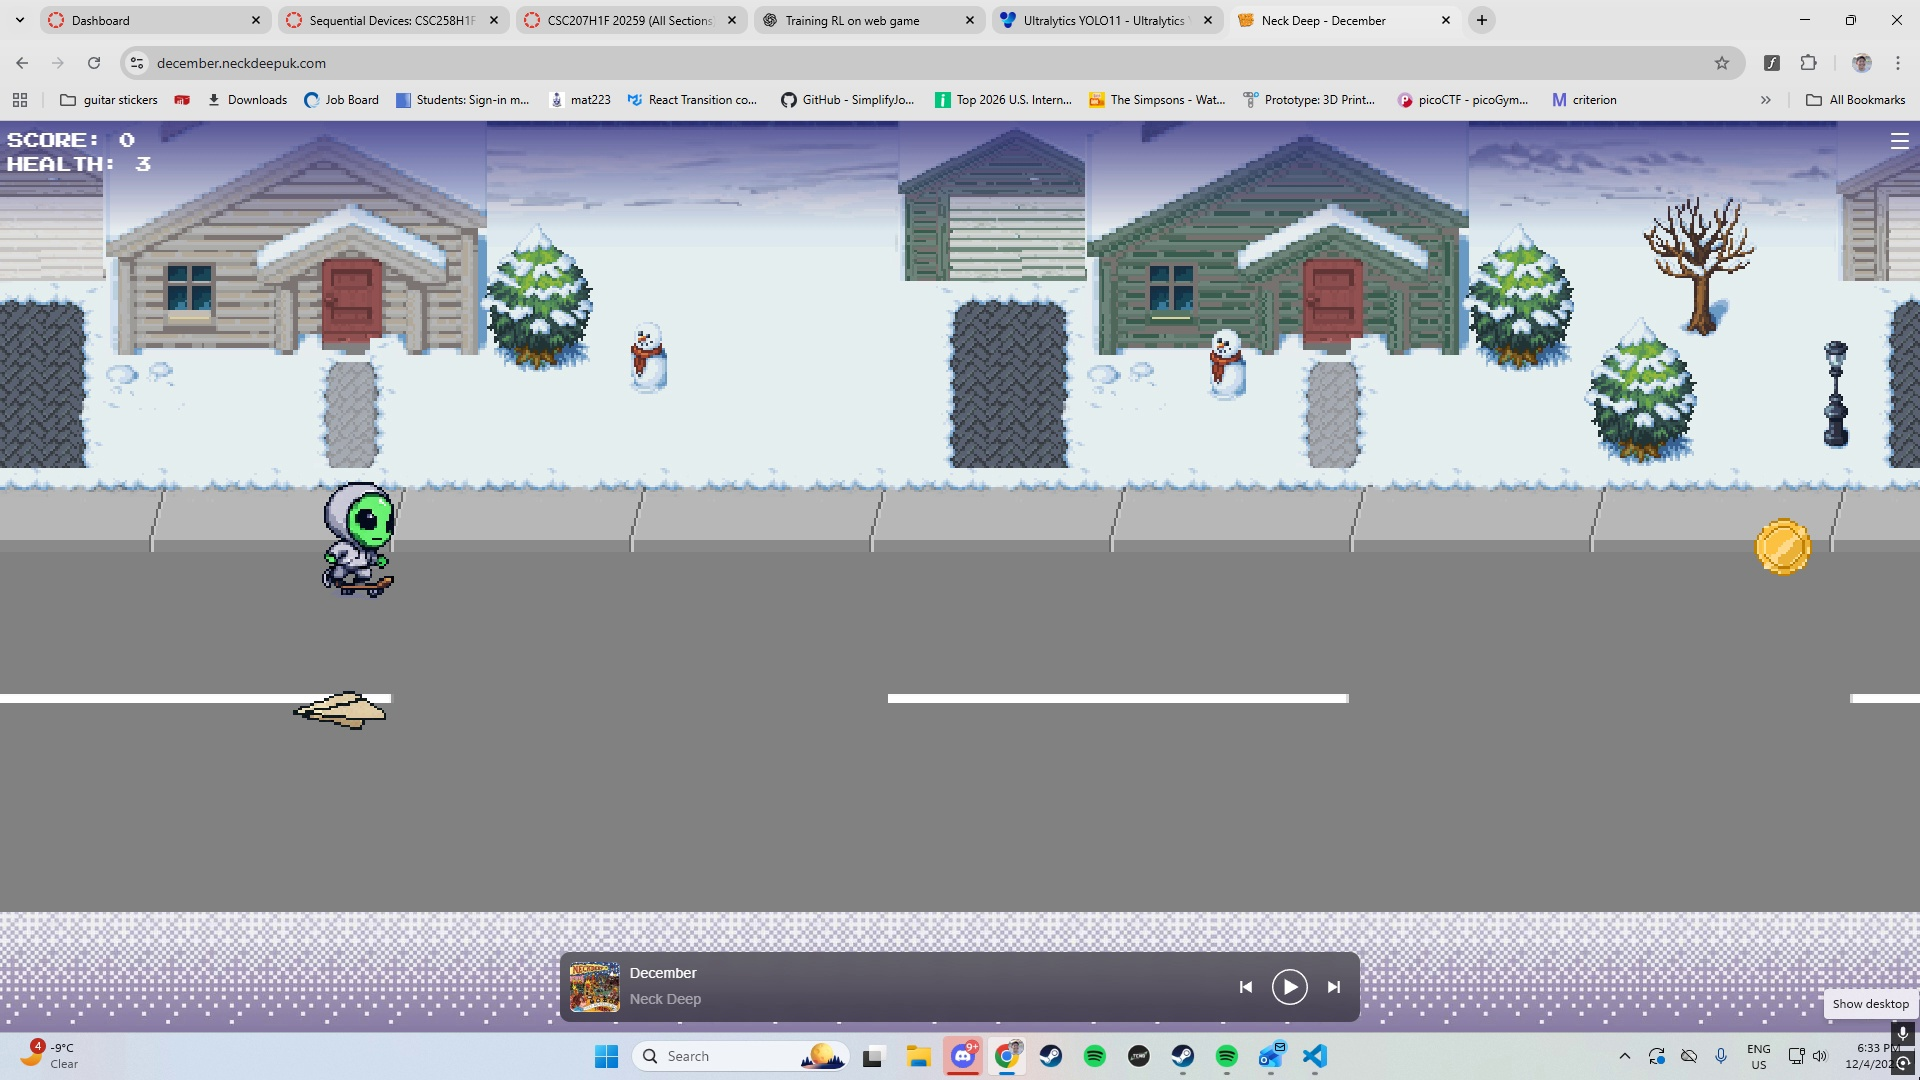Coin: (1734, 509, 1827, 581)
Plane: (274, 677, 412, 745)
Player: (303, 467, 407, 609)
